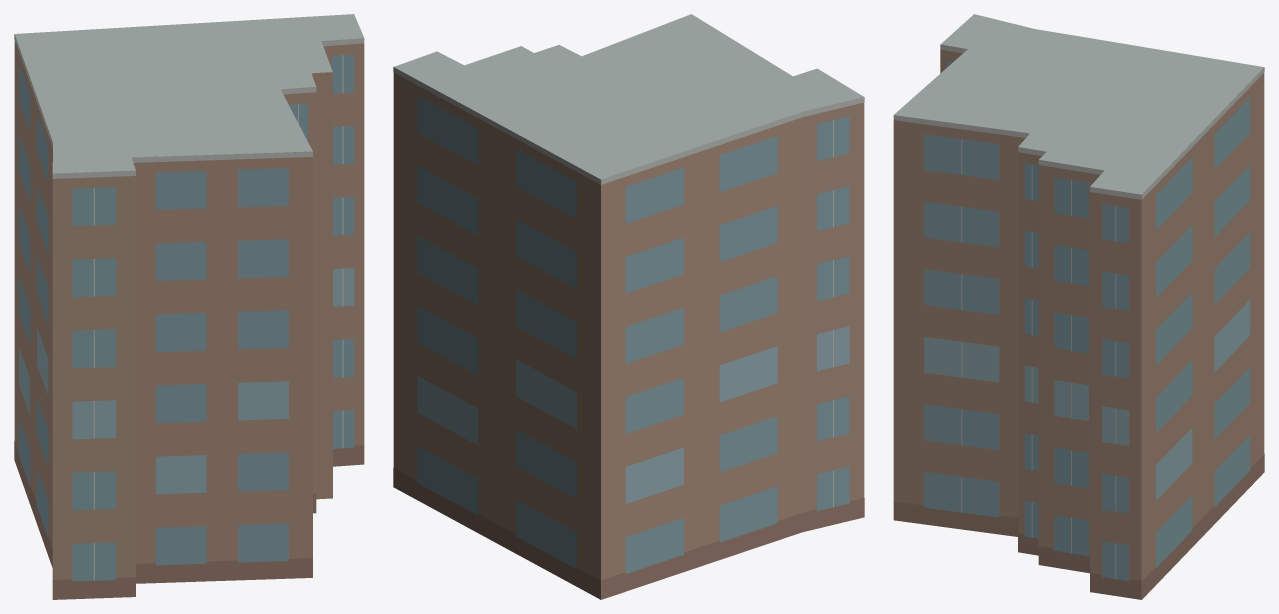
Rendered from survey-upis-32882982.glb.
The picture shows the model from 3 angles, left to right: view 1: azimuth 30°, elevation 25°; view 2: azimuth 150°, elevation 25°; view 3: azimuth 270°, elevation 25°; orthographic projection. The views are drawn at different scales.
Parts seen in each view (by area): view 1: survey-upis-32882982.tmp; view 2: survey-upis-32882982.tmp; view 3: survey-upis-32882982.tmp.
Part boxes in pixels (bbox=[...]): survey-upis-32882982.tmp: bbox=[14, 14, 364, 599]; survey-upis-32882982.tmp: bbox=[393, 14, 864, 599]; survey-upis-32882982.tmp: bbox=[893, 14, 1264, 599].
Size of the model in its own units: 18.42 by 19.25 by 15.98.
